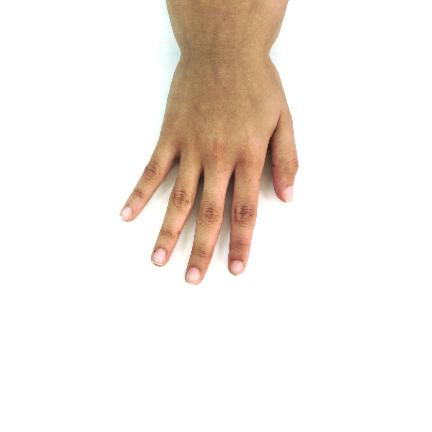Nail: (151, 248, 166, 266), (185, 267, 201, 283), (230, 260, 244, 275), (285, 185, 294, 205), (120, 206, 132, 220)
